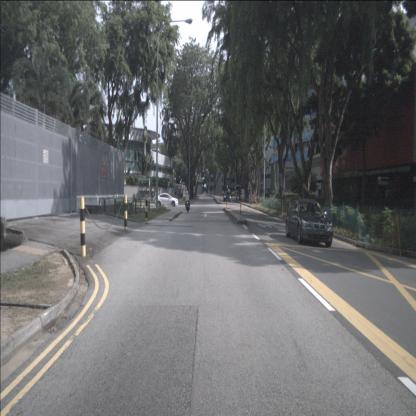vehicle-car: (286, 198, 334, 247), (154, 193, 178, 207), (224, 191, 232, 202)
vehicle-motorcycle: (185, 190, 190, 214)
